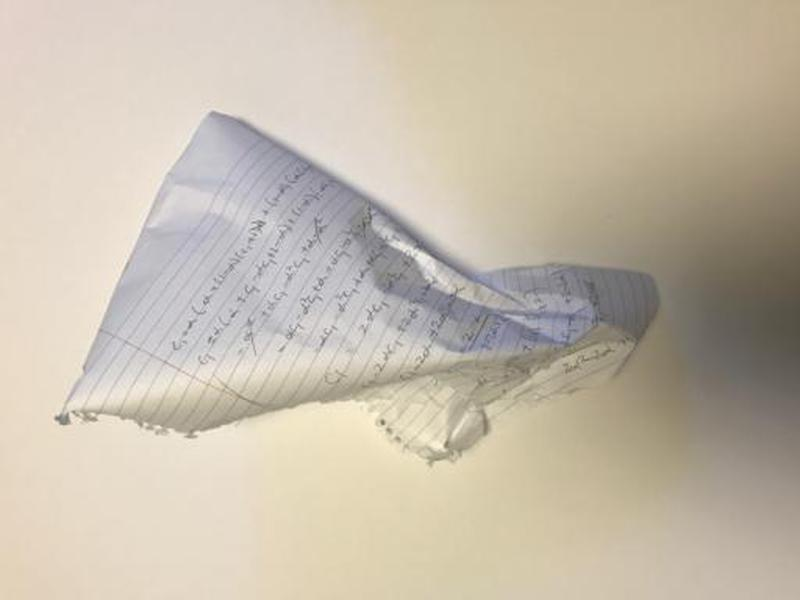paper: (53, 106, 662, 466)
